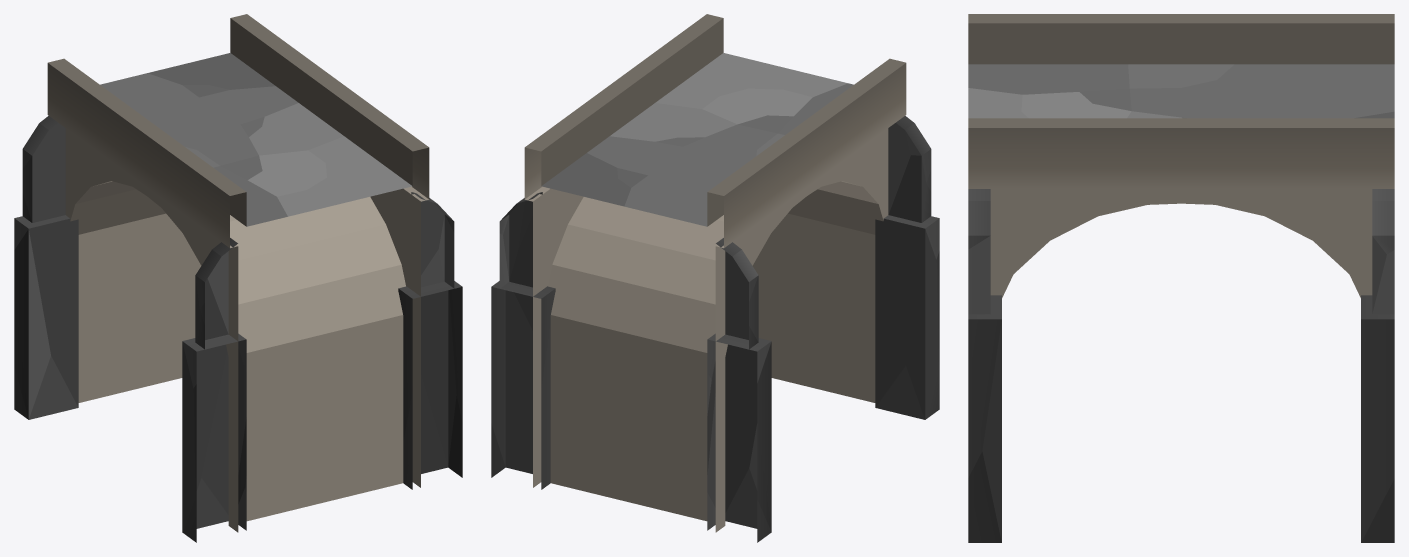
File: Walkway-Bridge_C.fbx
The picture shows the model from 3 angles, left to right: view 1: azimuth 30°, elevation 25°; view 2: azimuth 150°, elevation 25°; view 3: azimuth 270°, elevation 25°; orthographic projection. The views are drawn at different scales.
Visible parts, largest first — view 1: Walkway-Bridge_C; view 2: Walkway-Bridge_C; view 3: Walkway-Bridge_C.
Boxes of the visible parts, x1,y1,x2,y2 form: Walkway-Bridge_C: (14, 14, 462, 542); Walkway-Bridge_C: (491, 14, 939, 542); Walkway-Bridge_C: (968, 14, 1394, 542).
Size of the model in its own units: 800 by 974 by 950.
